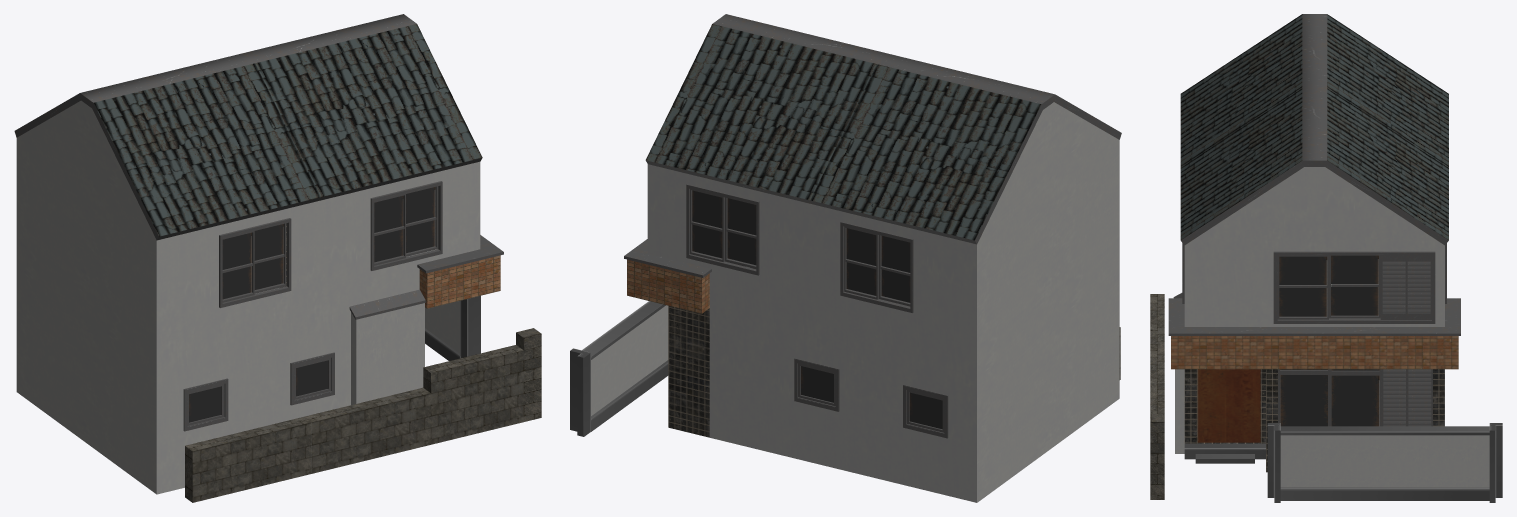
Rendered from japanese_residential_home_01.glb.
The picture shows the model from 3 angles, left to right: view 1: azimuth 30°, elevation 25°; view 2: azimuth 150°, elevation 25°; view 3: azimuth 270°, elevation 25°; orthographic projection. The views are drawn at different scales.
Visible parts, largest first — view 1: JapaneseResidentialHome_01; view 2: JapaneseResidentialHome_01; view 3: JapaneseResidentialHome_01.
Boxes of the visible parts, x1=… form: JapaneseResidentialHome_01: x1=14, y1=14, x2=541, y2=502; JapaneseResidentialHome_01: x1=570, y1=14, x2=1121, y2=502; JapaneseResidentialHome_01: x1=1150, y1=14, x2=1502, y2=502.
Size of the model in its own units: 921 by 816 by 811.
Materials: 1 (1 with a texture image).
